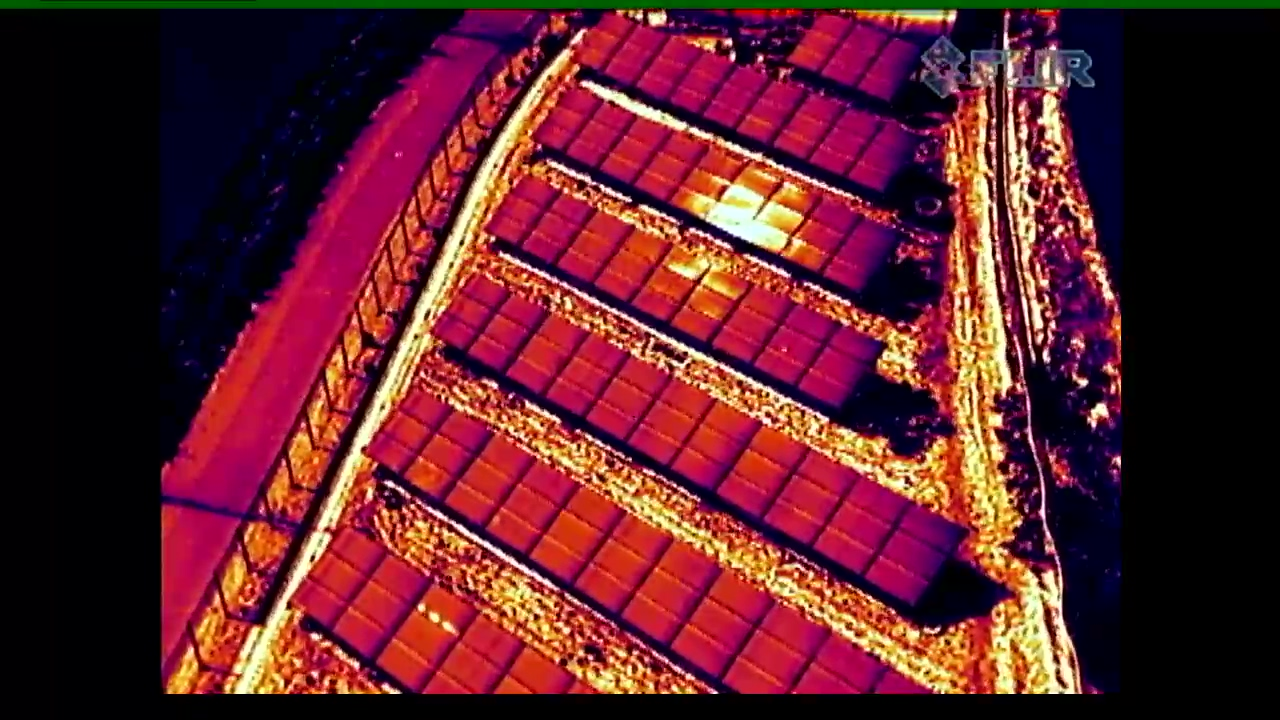hotspot: (373, 583, 478, 686), (753, 305, 836, 385)
